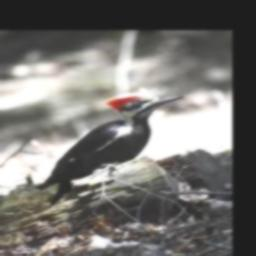Woodpecker: (36, 94, 183, 202)
